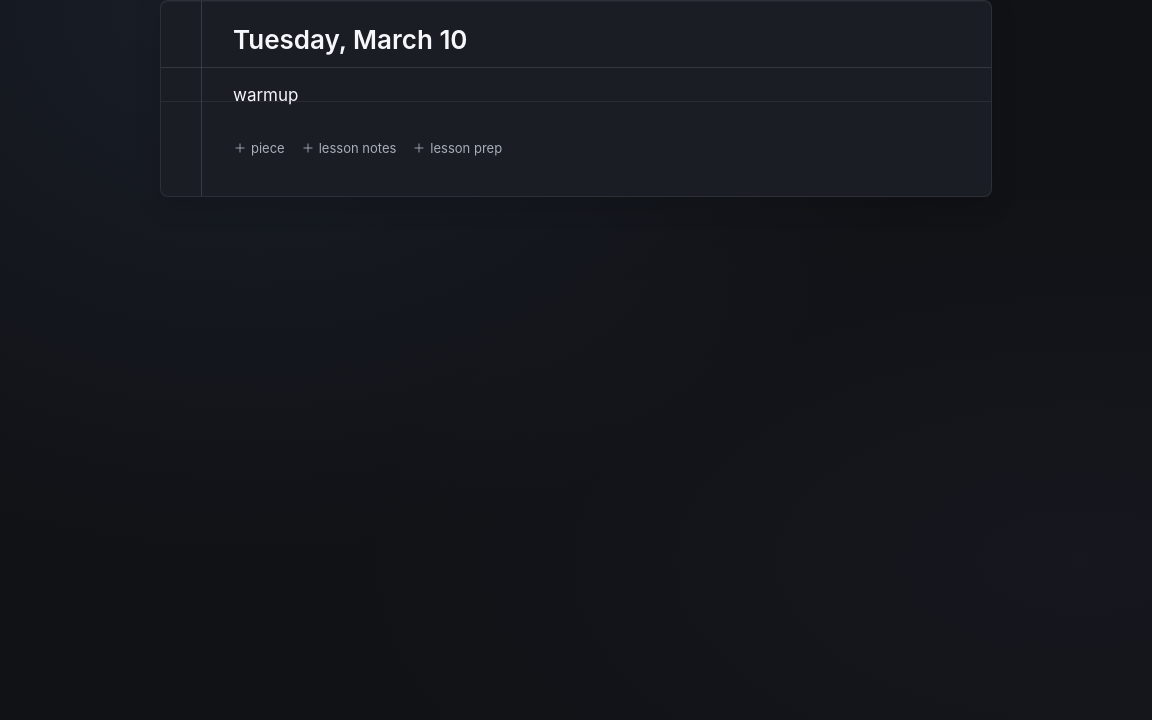
DaySheet — piece picker (spec C1) › adds a piece heading from the picker
The image size is (1152, 720).
Expected: the text box showing "warmup" is shown, [233,80,967,110]
Click the button "piece".
click(259, 148)  # box [233,140,285,156]
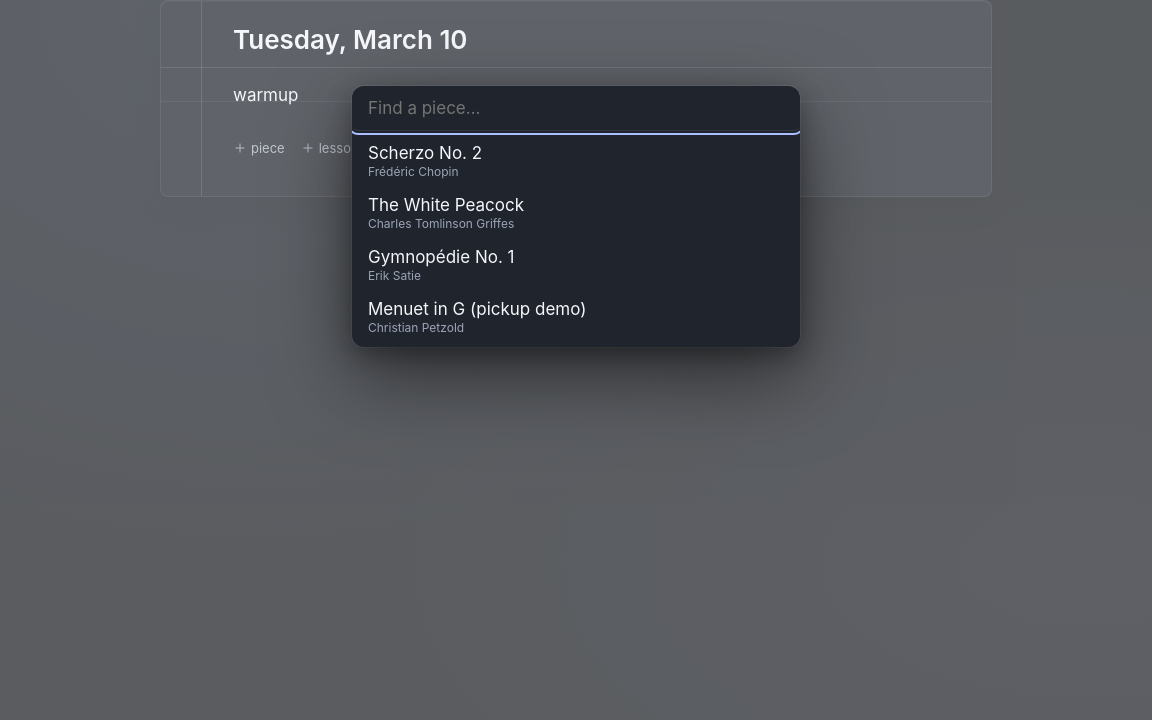
Click the text "Scherzo No. 2".
click(425, 153)  # box [368,143,482,163]
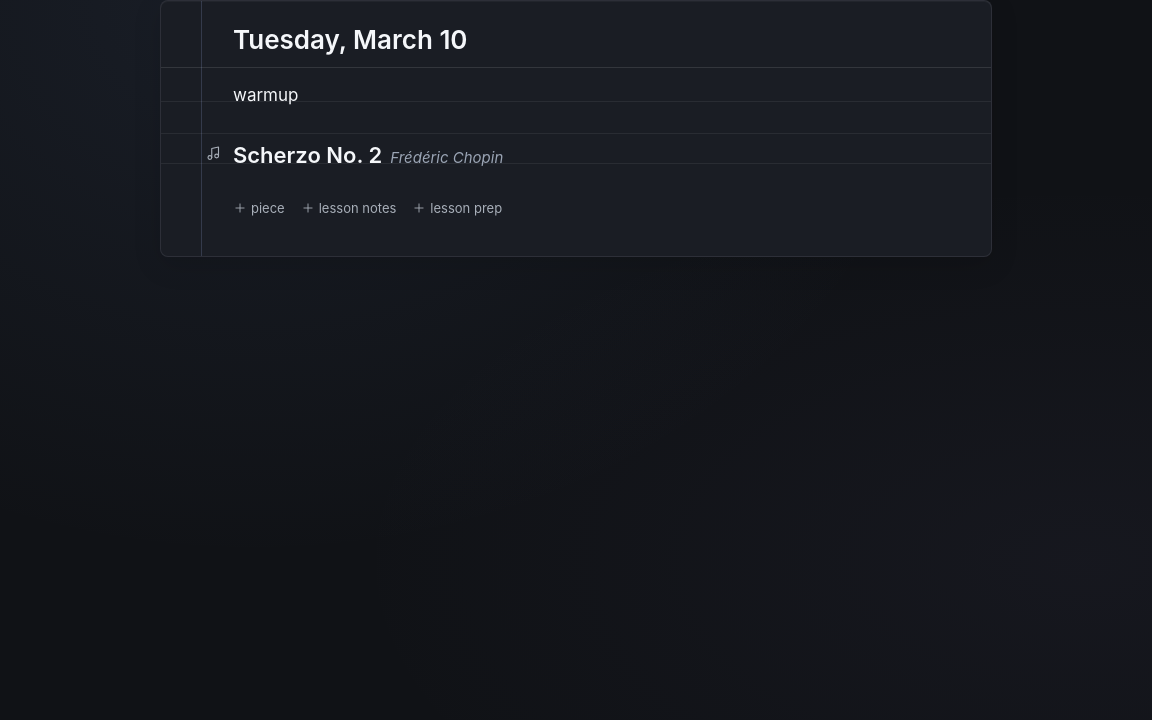
Result: the button "Scherzo No. 2" is shown at [233,140,382,170]
Result: the dialog with test id "piece-picker" is gone
